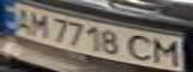1: (81, 24, 103, 53)
7: (63, 19, 87, 48), (48, 15, 72, 44)
8: (100, 27, 124, 56)
A: (6, 4, 36, 34)
C: (124, 33, 157, 63)
M: (148, 36, 187, 66), (24, 9, 54, 38)
